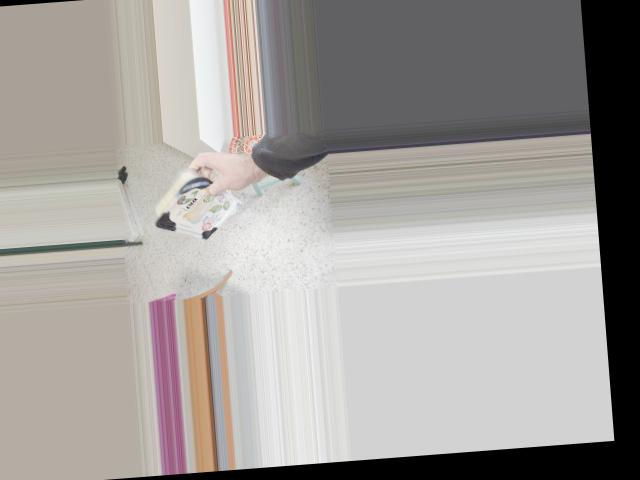cheese: (149, 143, 235, 253)
